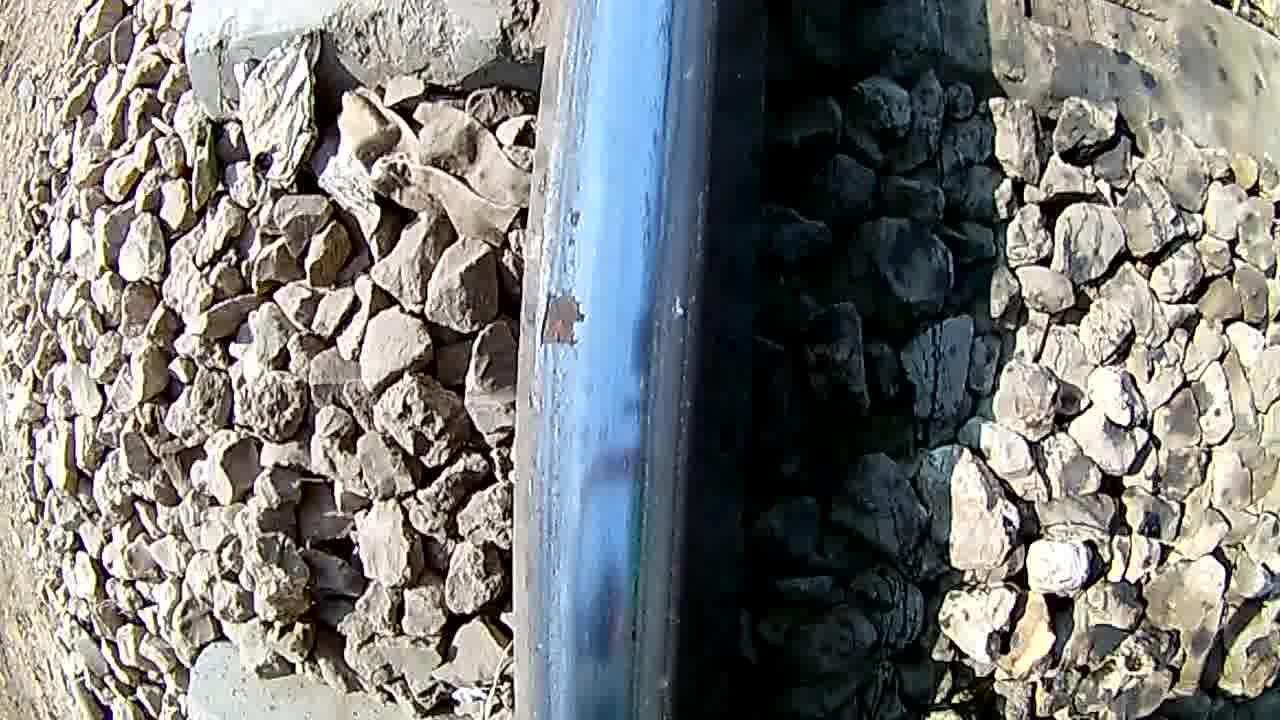crack: (531, 0, 703, 720)
